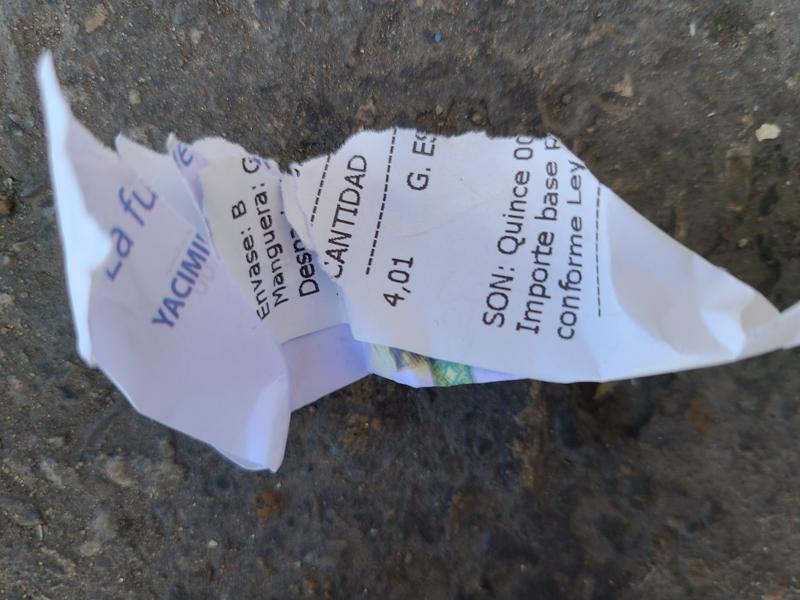papel: (35, 52, 800, 474)
